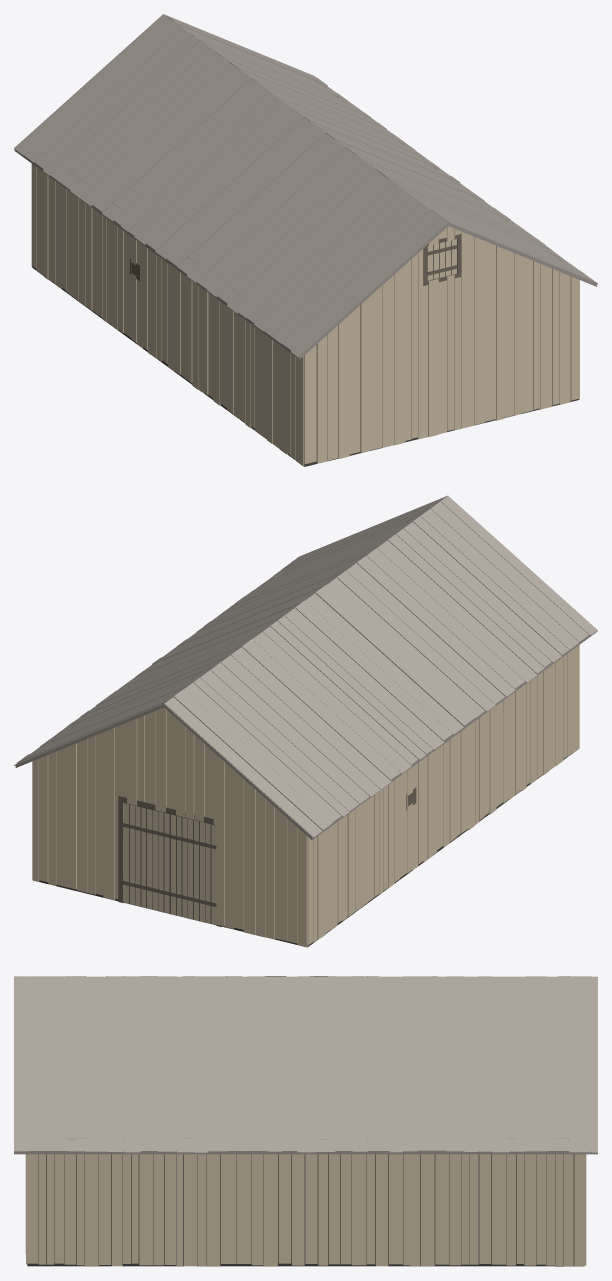
Rendered from recon_1835_west_036__inferred_1835.glb.
The picture shows the model from 3 angles, top to bottom: view 1: azimuth 30°, elevation 25°; view 2: azimuth 150°, elevation 25°; view 3: azimuth 270°, elevation 25°; orthographic projection. The views are drawn at different scales.
Visible parts, largest first — view 1: recon_1835_west_036__inferred_1835; view 2: recon_1835_west_036__inferred_1835; view 3: recon_1835_west_036__inferred_1835.
Part boxes in pixels (left/top/right/bottom): recon_1835_west_036__inferred_1835: left=14, top=14, right=597, bottom=466; recon_1835_west_036__inferred_1835: left=14, top=495, right=597, bottom=947; recon_1835_west_036__inferred_1835: left=14, top=976, right=597, bottom=1266.
Bounding box in the file's own units: 9.35 × 6.41 × 15.33.
